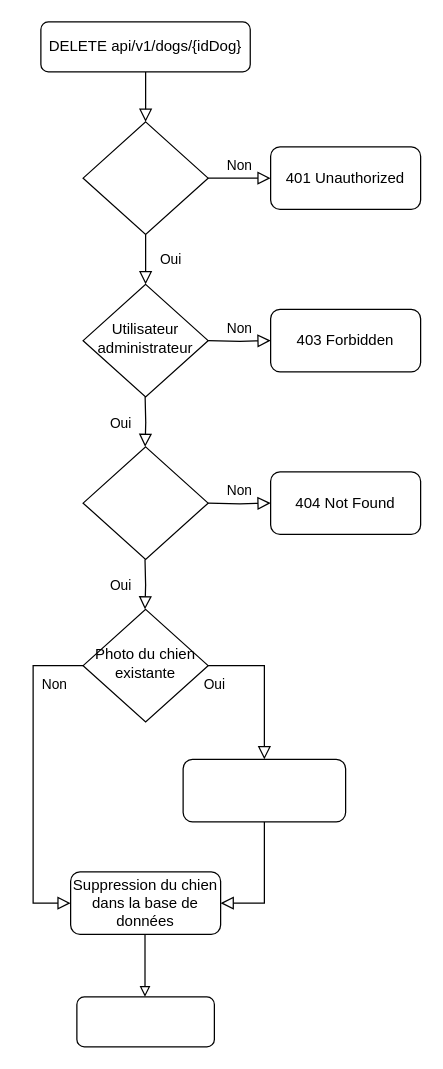
The diagram is 443 pixels wide and 1069 high, and some of its shapes have lost their labels. Here are the shapes that lost their labels. From the top down, the box of each, then its label:
(82, 121, 208, 234): Header Authorization présent
(82, 446, 208, 559): Chien à supprimer existant
(182, 758, 346, 822): Suppression de la photo du chien
(76, 996, 214, 1047): 200 OK
